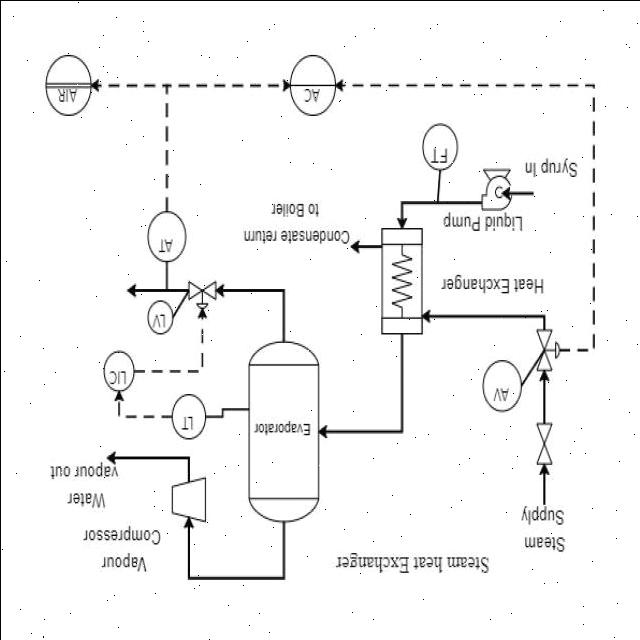Centrifugal Pump: (472, 165, 522, 212)
Gate Valve: (530, 418, 558, 467)
Pneumatic-Diaphragm Gate Valve: (530, 328, 560, 373), (185, 278, 217, 310)
